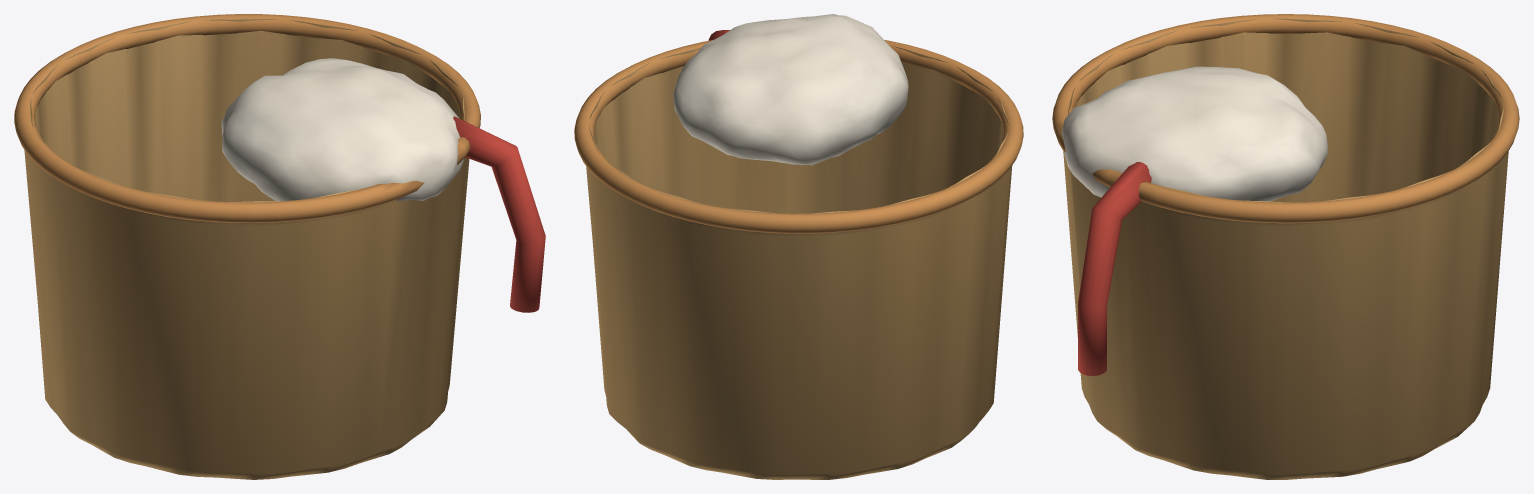
The model's file is den_laundry_basket.glb.
3 views of the same model, side by side, from view 1: azimuth 30°, elevation 25°; view 2: azimuth 150°, elevation 25°; view 3: azimuth 270°, elevation 25° (orthographic). The views are drawn at different scales.
Visible parts, largest first — view 1: den_laundry_basket; view 2: den_laundry_basket; view 3: den_laundry_basket.
Part boxes in pixels (left/top/right/bottom): den_laundry_basket: left=14, top=14, right=545, bottom=479; den_laundry_basket: left=574, top=14, right=1023, bottom=479; den_laundry_basket: left=1052, top=14, right=1519, bottom=479.
Size of the model in its own units: 31.4 by 24.73 by 31.4.
